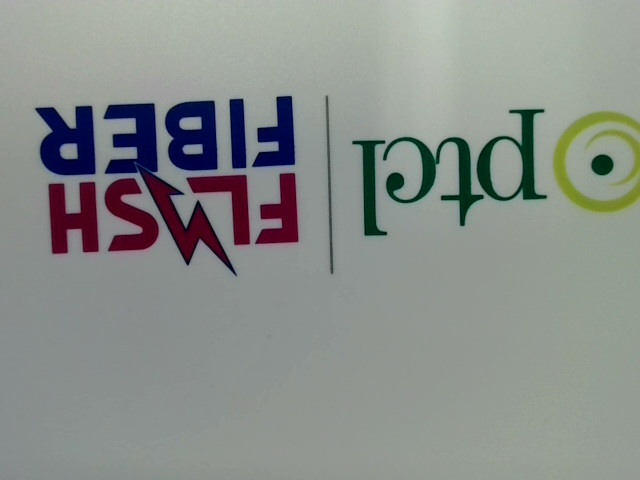BF_PTCL: (347, 99, 639, 237)
